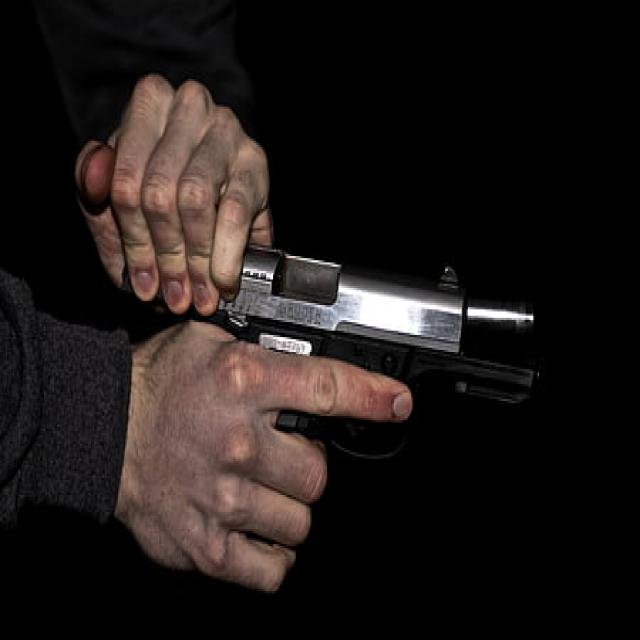gun: (209, 239, 536, 433)
